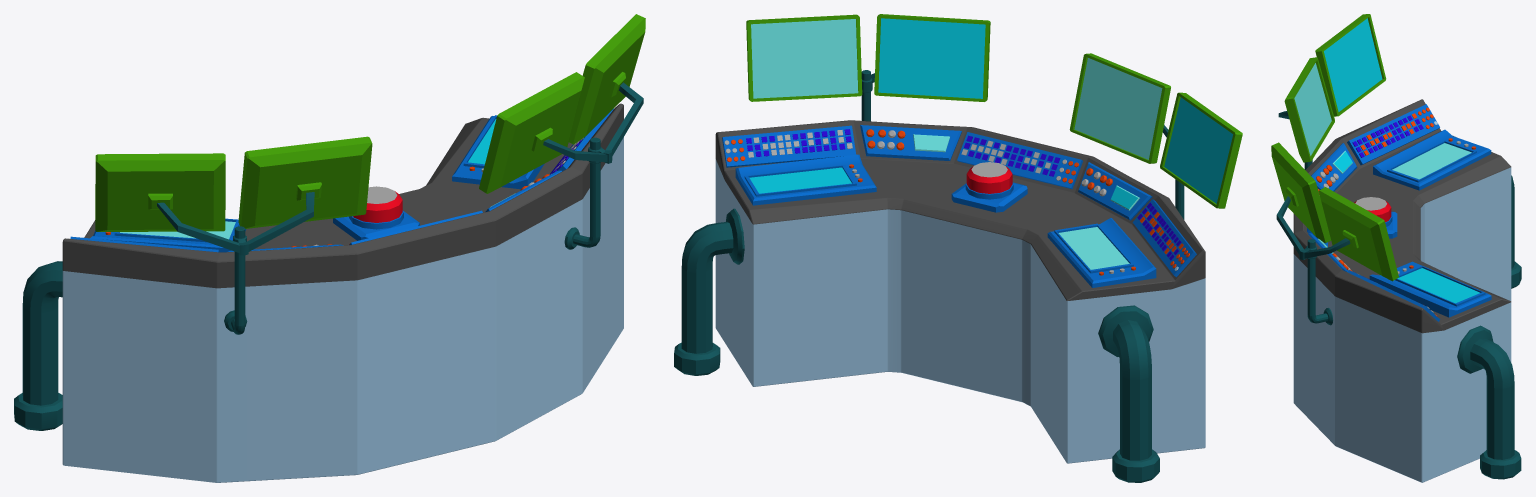
Rendered from Control Panel 1.fbx.
3 renders of one model, left to right at view 1: azimuth 30°, elevation 25°; view 2: azimuth 150°, elevation 25°; view 3: azimuth 270°, elevation 25°, orthographic. The views are drawn at different scales.
Visible parts, largest first — view 1: Control_Panel; view 2: Control_Panel; view 3: Control_Panel.
Part boxes in pixels (x1,y1,x2,y2): Control_Panel: (14, 14, 645, 482); Control_Panel: (674, 14, 1242, 482); Control_Panel: (1271, 14, 1521, 482).
Bounding box in the file's own units: 3.96 × 2.25 × 1.97.
